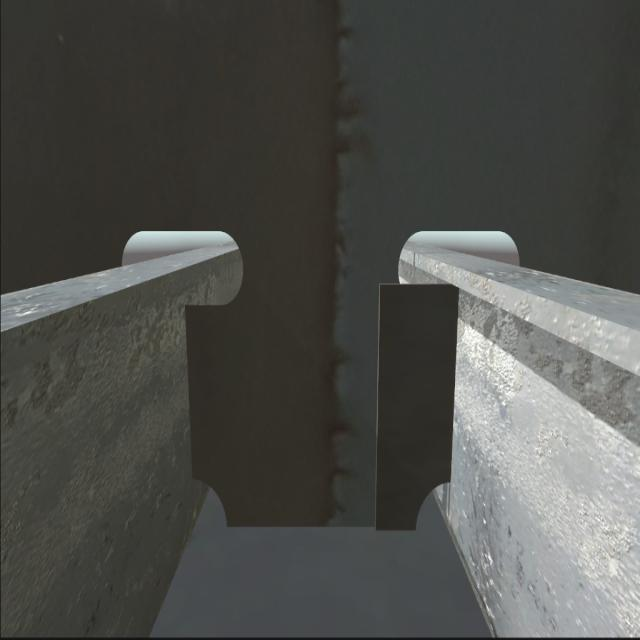fillet_hole: (190, 476, 228, 526), (414, 488, 456, 532)
fillet_yong_jeop_jang: (224, 515, 421, 537)
longi_yong_jeop_jang: (178, 305, 201, 481), (444, 281, 461, 484)
plate_CP01: (374, 282, 459, 529)
